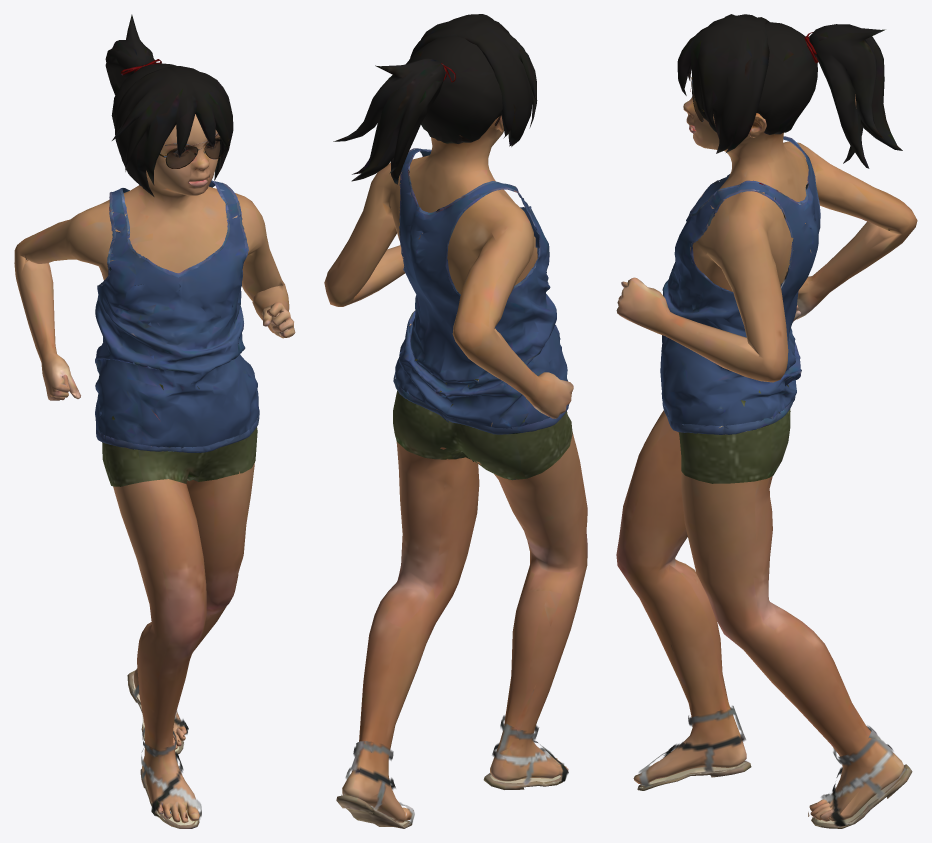
The picture shows the model from 3 angles, left to right: view 1: azimuth 30°, elevation 25°; view 2: azimuth 150°, elevation 25°; view 3: azimuth 270°, elevation 25°; orthographic projection. The views are drawn at different scales.
Parts seen in each view (by area): view 1: p01810; view 2: p01810; view 3: p01810.
Boxes of the visible parts, <box> form: p01810: <box>14,14,295,828</box>; p01810: <box>324,14,587,828</box>; p01810: <box>616,14,917,828</box>.
Size of the model in its own units: 0.4476 by 1.34 by 0.4638.
1 material, 1 textured.
